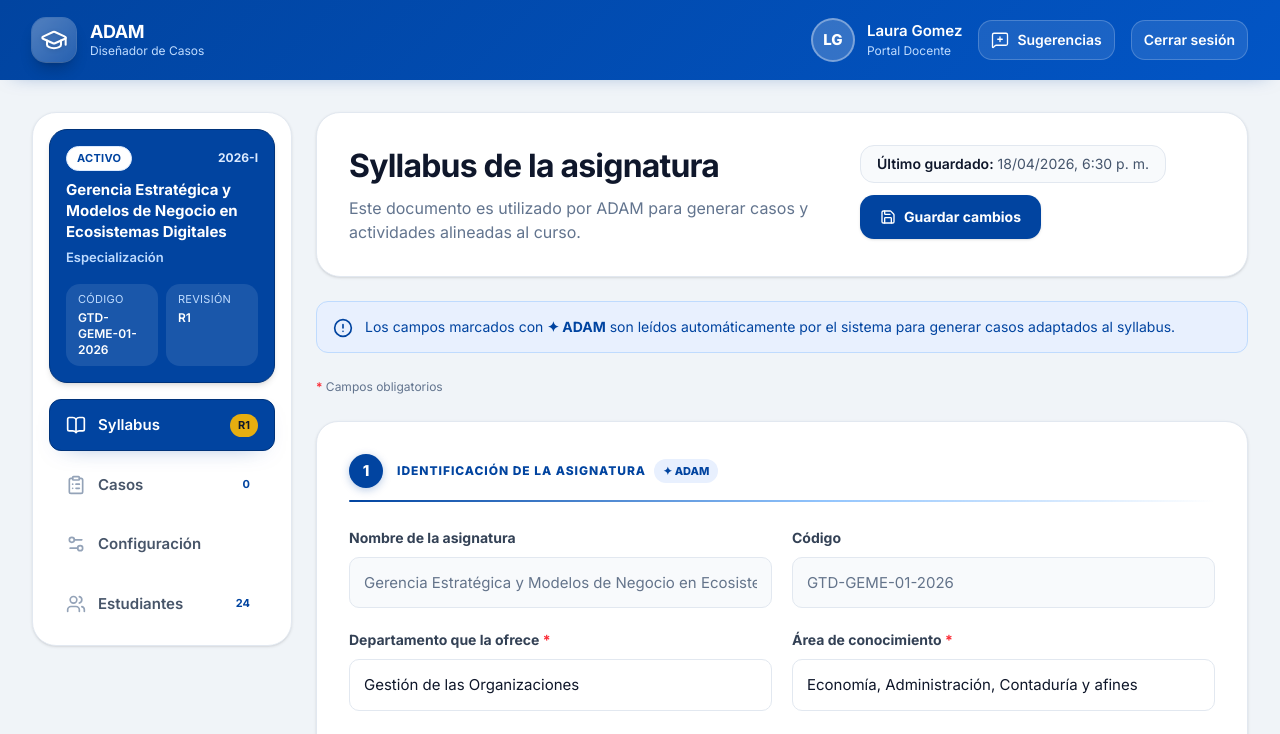
Test: TeacherCoursePage › blocks save on client-side validation failure
Check: the heading "Syllabus de la asignatura" is shown, box [349,146,719,185]
Clear the field labelled "Departamento que la ofrece *" at (560, 685), box [349,659,772,711]
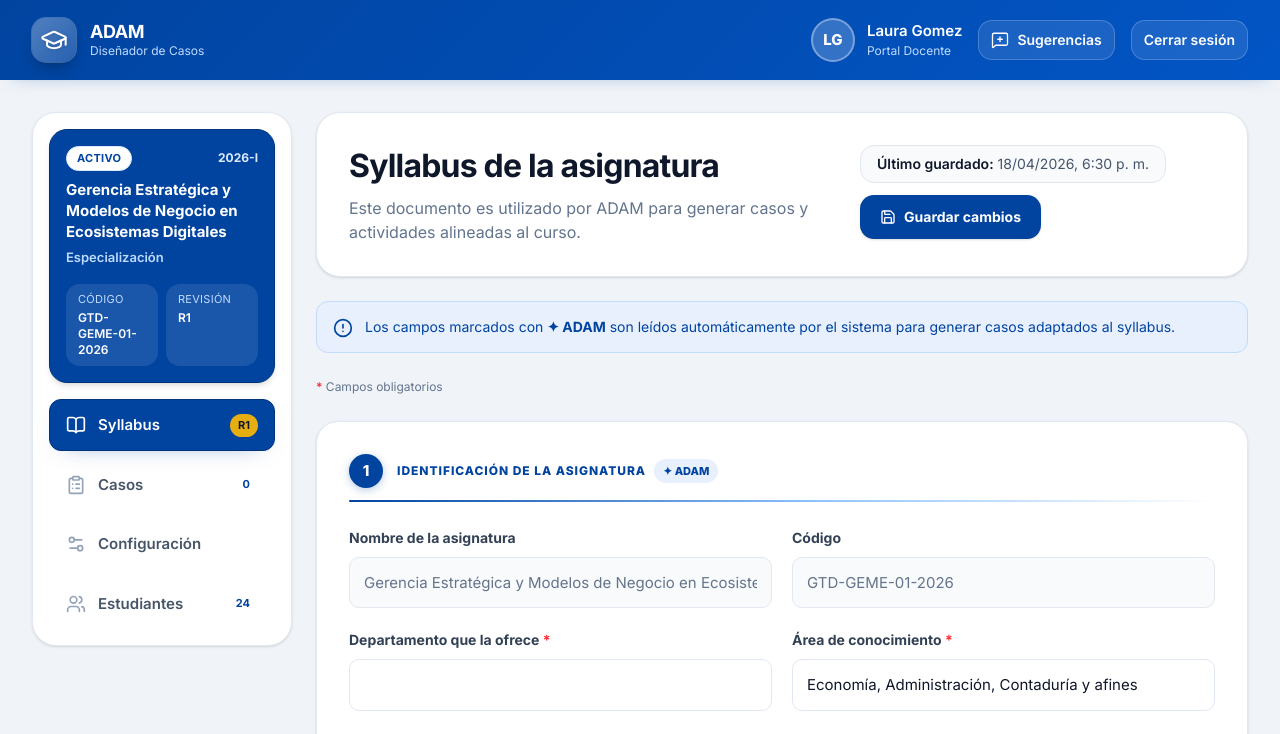
Click the button "Guardar cambios" at (950, 217), box [860,195,1041,239]
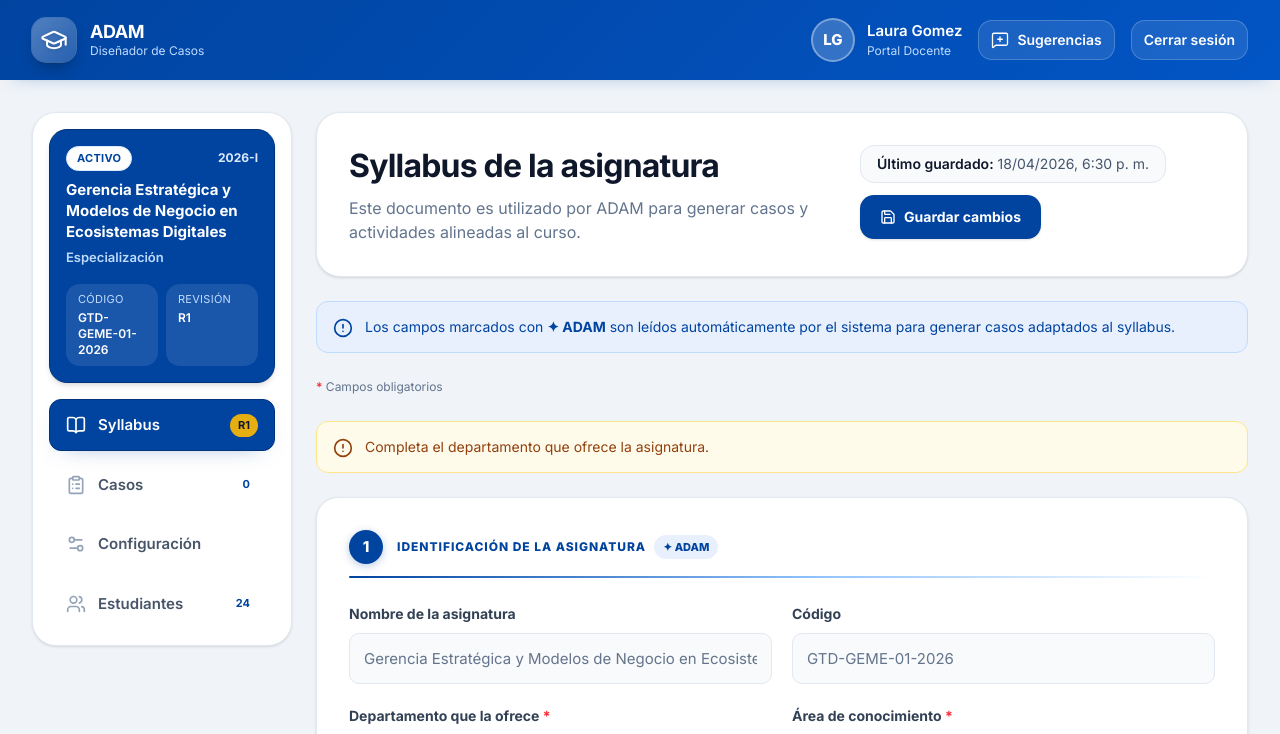
Check: the message "Completa el departamento que ofrece la asignatura." below "Campos obligatorios" is shown, box [365,438,709,455]
